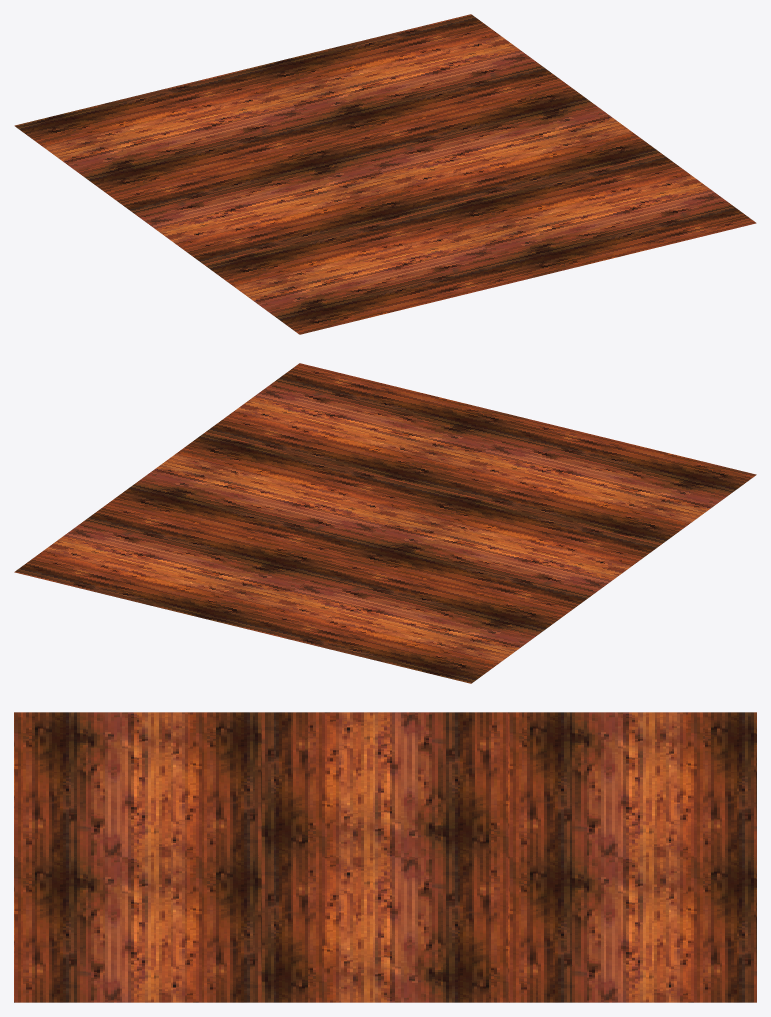
File: SM_Floor_Test.glb
3 renders of one model, top to bottom at view 1: azimuth 30°, elevation 25°; view 2: azimuth 150°, elevation 25°; view 3: azimuth 270°, elevation 25°, orthographic. The views are drawn at different scales.
Parts seen in each view (by area): view 1: SM_Floor_Test_A; view 2: SM_Floor_Test_A; view 3: SM_Floor_Test_A.
Boxes of the visible parts, <box> form: SM_Floor_Test_A: <box>14,14,756,334</box>; SM_Floor_Test_A: <box>14,363,756,683</box>; SM_Floor_Test_A: <box>14,712,756,1002</box>.
Bounding box in the file's own units: 19.74 × 1.49e-08 × 21.37.
1 material, 1 textured.
